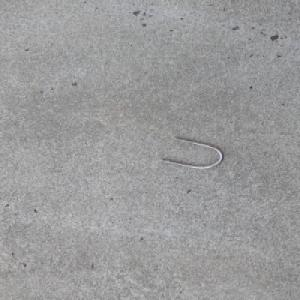ClampPart: (158, 137, 225, 169)
